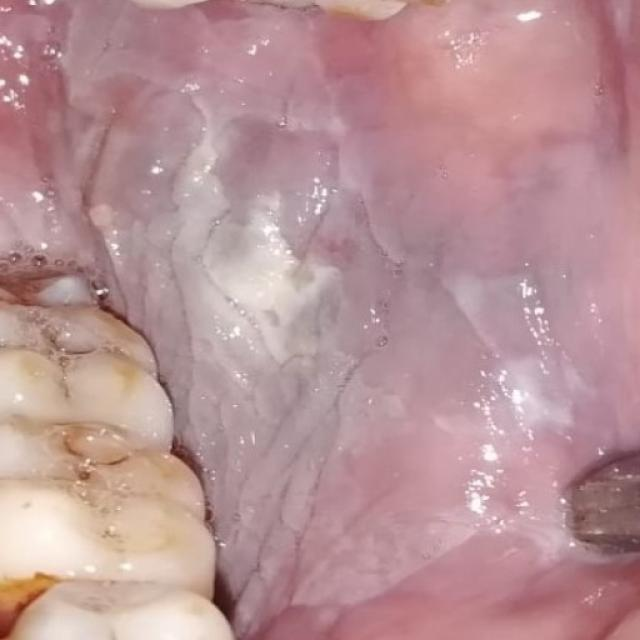cancer-detection: (77, 67, 417, 511), (427, 261, 626, 471)
processing_area: (5, 0, 638, 639)
